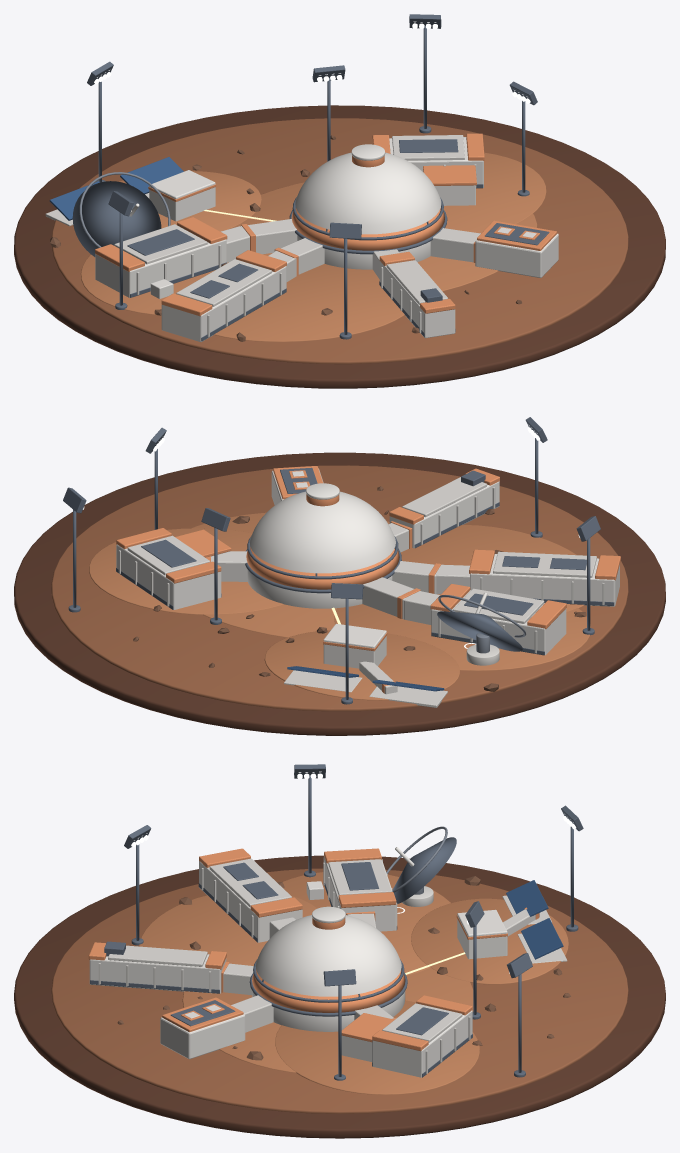
Rendered from phobosia-outpost-hero.glb.
3 renders of one model, top to bottom at view 1: azimuth 30°, elevation 25°; view 2: azimuth 150°, elevation 25°; view 3: azimuth 270°, elevation 25°, orthographic.
Visible parts, largest first — view 1: Terrain_Mid_Zone, Terrain_Nocturnal_Rim, Hub_Geodesic_Dome, Terrain_Lit_Pool_2, Terrain_Lit_Pool_3, Dish_Reflector, Mod_Spoke1_Habitat_Body, Mod_Spoke2_ScienceLab_Body, Terrain_Lit_Pool_0, Terrain_Lit_Pool_4, Mod_Spoke4_Airlock, Power_Transformer_Bldg (+28 smaller); view 2: Terrain_Mid_Zone, Terrain_Nocturnal_Rim, Hub_Geodesic_Dome, Terrain_Lit_Pool_4, Terrain_Lit_Pool_3, Terrain_Lit_Pool_1, Terrain_Lit_Pool_2, Mod_Spoke2_ScienceLab_Body, Terrain_Lit_Pool_0, Mod_Spoke5_MainHall_Body, Power_Transformer_Bldg, Hub_Orange_Band (+31 smaller); view 3: Terrain_Mid_Zone, Terrain_Nocturnal_Rim, Hub_Geodesic_Dome, Terrain_Lit_Pool_3, Terrain_Lit_Pool_4, Terrain_Lit_Pool_2, Terrain_Lit_Pool_0, Mod_Spoke3_FrontWing_Body, Terrain_Lit_Pool_1, Mod_Spoke5_MainHall_Body, Mod_Spoke4_Airlock, Hub_Orange_Band (+28 smaller).
Part boxes in pixels (x1=…): Terrain_Mid_Zone: x1=51, y1=118, x2=628, y2=364; Terrain_Nocturnal_Rim: x1=14, y1=105, x2=665, y2=388; Hub_Geodesic_Dome: x1=295, y1=152, x2=441, y2=234; Terrain_Lit_Pool_2: x1=214, y1=264, x2=404, y2=341; Terrain_Lit_Pool_3: x1=443, y1=152, x2=546, y2=233; Dish_Reflector: x1=72, y1=181, x2=161, y2=256; Mod_Spoke1_Habitat_Body: x1=95, y1=239, x2=226, y2=297; Mod_Spoke2_ScienceLab_Body: x1=161, y1=266, x2=286, y2=341; Terrain_Lit_Pool_0: x1=251, y1=182, x2=537, y2=291; Terrain_Lit_Pool_4: x1=119, y1=171, x2=261, y2=231; Mod_Spoke4_Airlock: x1=475, y1=233, x2=558, y2=277; Power_Transformer_Bldg: x1=149, y1=170, x2=215, y2=221; Terrain_Mid_Zone: x1=51, y1=465, x2=628, y2=711; Terrain_Nocturnal_Rim: x1=14, y1=452, x2=665, y2=735; Hub_Geodesic_Dome: x1=249, y1=491, x2=395, y2=573; Terrain_Lit_Pool_4: x1=264, y1=630, x2=459, y2=700; Terrain_Lit_Pool_3: x1=89, y1=528, x2=283, y2=614; Terrain_Lit_Pool_1: x1=334, y1=604, x2=590, y2=670; Terrain_Lit_Pool_2: x1=400, y1=525, x2=583, y2=611; Mod_Spoke2_ScienceLab_Body: x1=470, y1=554, x2=619, y2=606; Terrain_Lit_Pool_0: x1=192, y1=512, x2=389, y2=637; Mod_Spoke5_MainHall_Body: x1=116, y1=544, x2=221, y2=609; Power_Transformer_Bldg: x1=323, y1=623, x2=386, y2=668; Hub_Orange_Band: x1=246, y1=547, x2=399, y2=589; Terrain_Mid_Zone: x1=51, y1=868, x2=628, y2=1113; Terrain_Nocturnal_Rim: x1=14, y1=855, x2=665, y2=1138; Hub_Geodesic_Dome: x1=255, y1=915, x2=401, y2=996; Terrain_Lit_Pool_3: x1=275, y1=1000, x2=479, y2=1094; Terrain_Lit_Pool_4: x1=411, y1=898, x2=568, y2=984; Terrain_Lit_Pool_2: x1=139, y1=895, x2=317, y2=965; Terrain_Lit_Pool_0: x1=182, y1=967, x2=473, y2=1072; Mod_Spoke3_FrontWing_Body: x1=89, y1=954, x2=226, y2=993; Terrain_Lit_Pool_1: x1=282, y1=872, x2=450, y2=975; Mod_Spoke5_MainHall_Body: x1=372, y1=1010, x2=472, y2=1077; Mod_Spoke4_Airlock: x1=160, y1=1014, x2=245, y2=1059; Hub_Orange_Band: x1=252, y1=969, x2=405, y2=1012.
Bounding box in the file's own units: 8.7 × 1.91 × 8.7.
